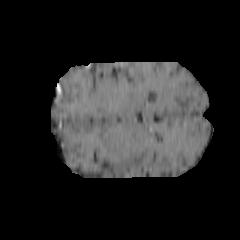glioma: (73, 110, 161, 163)
